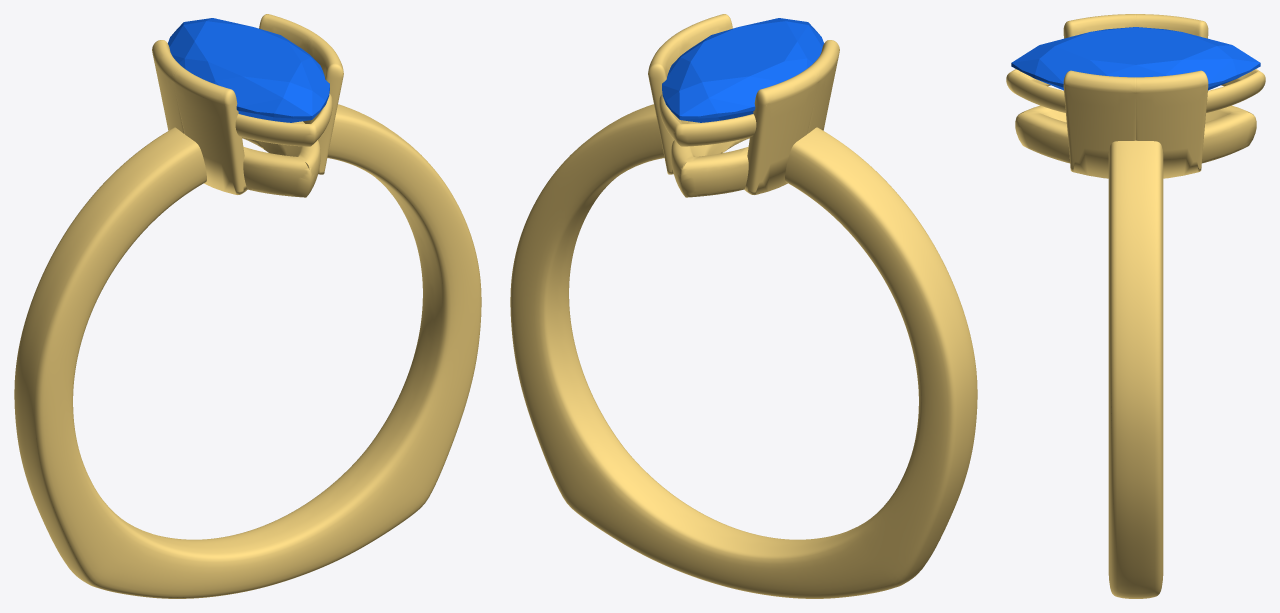
File: bluesapphire-marquise-yellowgold-halfmoonbezel-europeanshank-nosidestones.glb
3 renders of one model, left to right at view 1: azimuth 30°, elevation 25°; view 2: azimuth 150°, elevation 25°; view 3: azimuth 270°, elevation 25°, orthographic. The views are drawn at different scales.
Visible parts, largest first — view 1: metal.003, stone; view 2: metal.003, stone; view 3: metal.003, stone.
Boxes of the visible parts, x1,y1,x2,y2 form: metal.003: (14,14,481,598); stone: (168,18,329,122); metal.003: (510,14,977,598); stone: (662,18,823,122); metal.003: (1006,14,1265,598); stone: (1011,27,1260,90).
Bounding box in the file's own units: 20.1 × 22.73 × 10.4.
